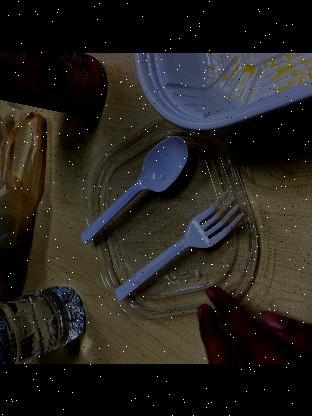Others: (112, 188, 244, 304), (76, 130, 190, 246)
